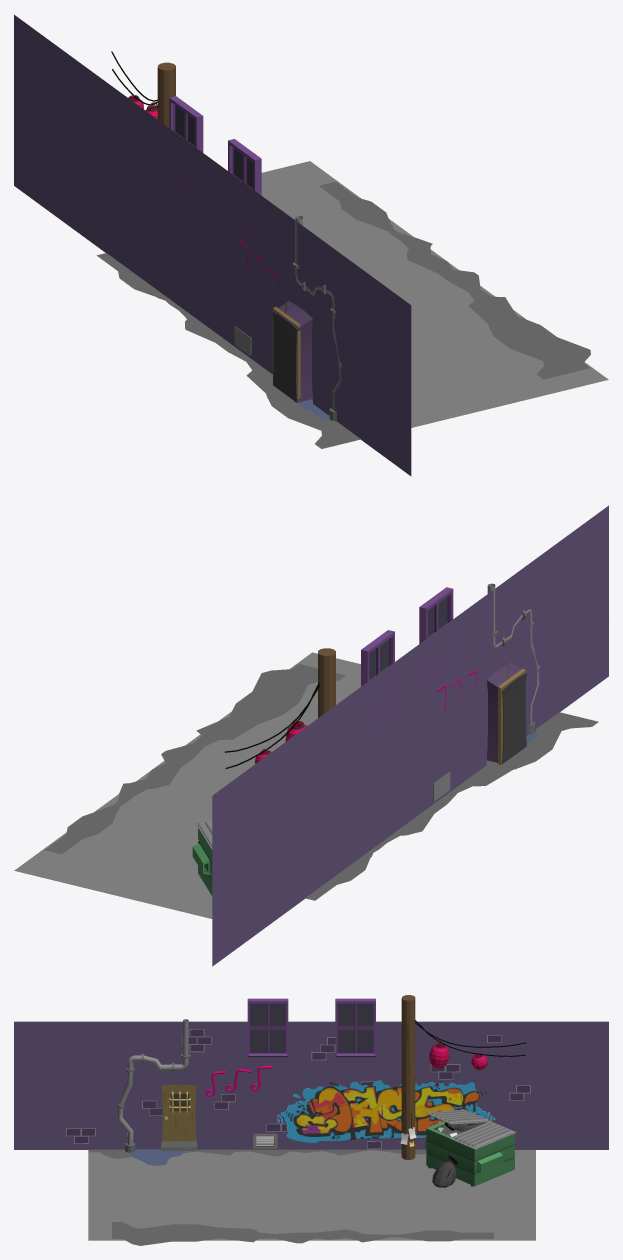
File: env_alley02.fbx
3 renders of one model, top to bottom at view 1: azimuth 30°, elevation 25°; view 2: azimuth 150°, elevation 25°; view 3: azimuth 270°, elevation 25°, orthographic. The views are drawn at different scales.
Parts seen in each view (by area): view 1: wall_REN, street_REN, grime2_REN, grime1_REN, window2_REN, window1_REM, pole_REN, pipes_REN; view 2: wall_REN, street_REN, grime2_REN, grime1_REN, window1_REM, window2_REN, pole_REN, pipes_REN, dumpster_REN; view 3: wall_REN, street_REN, graffiti_REN, grime2_REN, dumpster_REN, window1_REM, window2_REN, pole_REN, door_REN, pipes_REN, grime1_REN, lid_REN (+4 smaller).
Part boxes in pixels (x1,y1,x2,y2): wall_REN: [14, 15, 411, 476]; street_REN: [261, 161, 608, 427]; grime2_REN: [319, 181, 590, 379]; grime1_REN: [96, 253, 360, 448]; window2_REN: [169, 96, 203, 191]; window1_REM: [228, 139, 261, 233]; pole_REN: [157, 62, 175, 127]; pipes_REN: [293, 215, 341, 421]; wall_REN: [212, 505, 608, 966]; street_REN: [14, 652, 360, 918]; grime2_REN: [45, 664, 345, 854]; grime1_REN: [305, 712, 598, 900]; window1_REM: [419, 587, 453, 682]; window2_REN: [361, 630, 394, 724]; pole_REN: [318, 648, 335, 717]; pipes_REN: [487, 583, 540, 734]; dumpster_REN: [192, 828, 212, 895]; wall_REN: [14, 1021, 608, 1150]; street_REN: [88, 1150, 535, 1240]; graffiti_REN: [277, 1080, 495, 1142]; grime2_REN: [112, 1222, 493, 1245]; dumpster_REN: [425, 1121, 514, 1186]; window1_REM: [247, 998, 288, 1057]; window2_REN: [335, 998, 375, 1057]; pole_REN: [401, 995, 415, 1159]; door_REN: [161, 1084, 196, 1141]; pipes_REN: [117, 1019, 190, 1152]; grime1_REN: [88, 1149, 426, 1158]; lid_REN: [450, 1121, 516, 1149].
Size of the model in its own units: 37.58 by 26.86 by 85.18.
